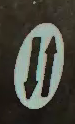Two way: (14, 21, 66, 113)
